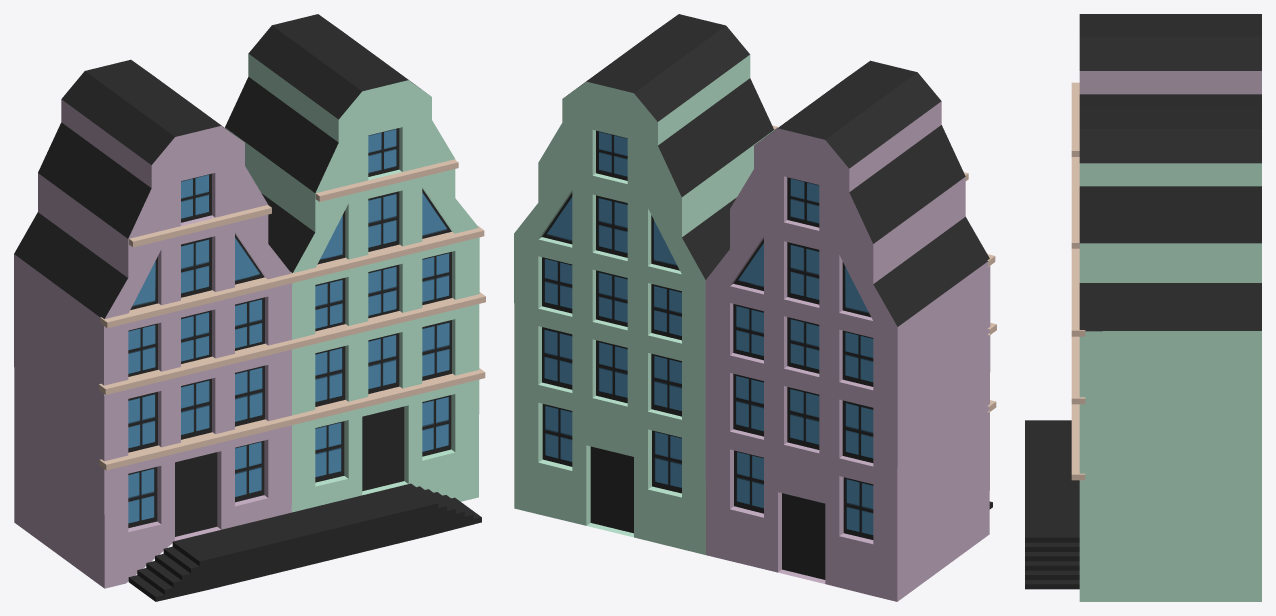
File: HighDouble.obj
3 views of the same model, side by side, from view 1: azimuth 30°, elevation 25°; view 2: azimuth 150°, elevation 25°; view 3: azimuth 270°, elevation 25° (orthographic). The views are drawn at different scales.
Parts seen in each view (by area): view 1: WysokiDOUBLE; view 2: WysokiDOUBLE; view 3: WysokiDOUBLE.
Part boxes in pixels (x1=…): WysokiDOUBLE: x1=14, y1=14, x2=485, y2=601; WysokiDOUBLE: x1=514, y1=14, x2=996, y2=601; WysokiDOUBLE: x1=1025, y1=14, x2=1261, y2=601.
Size of the model in its own units: 12.19 by 13.31 by 6.52.
